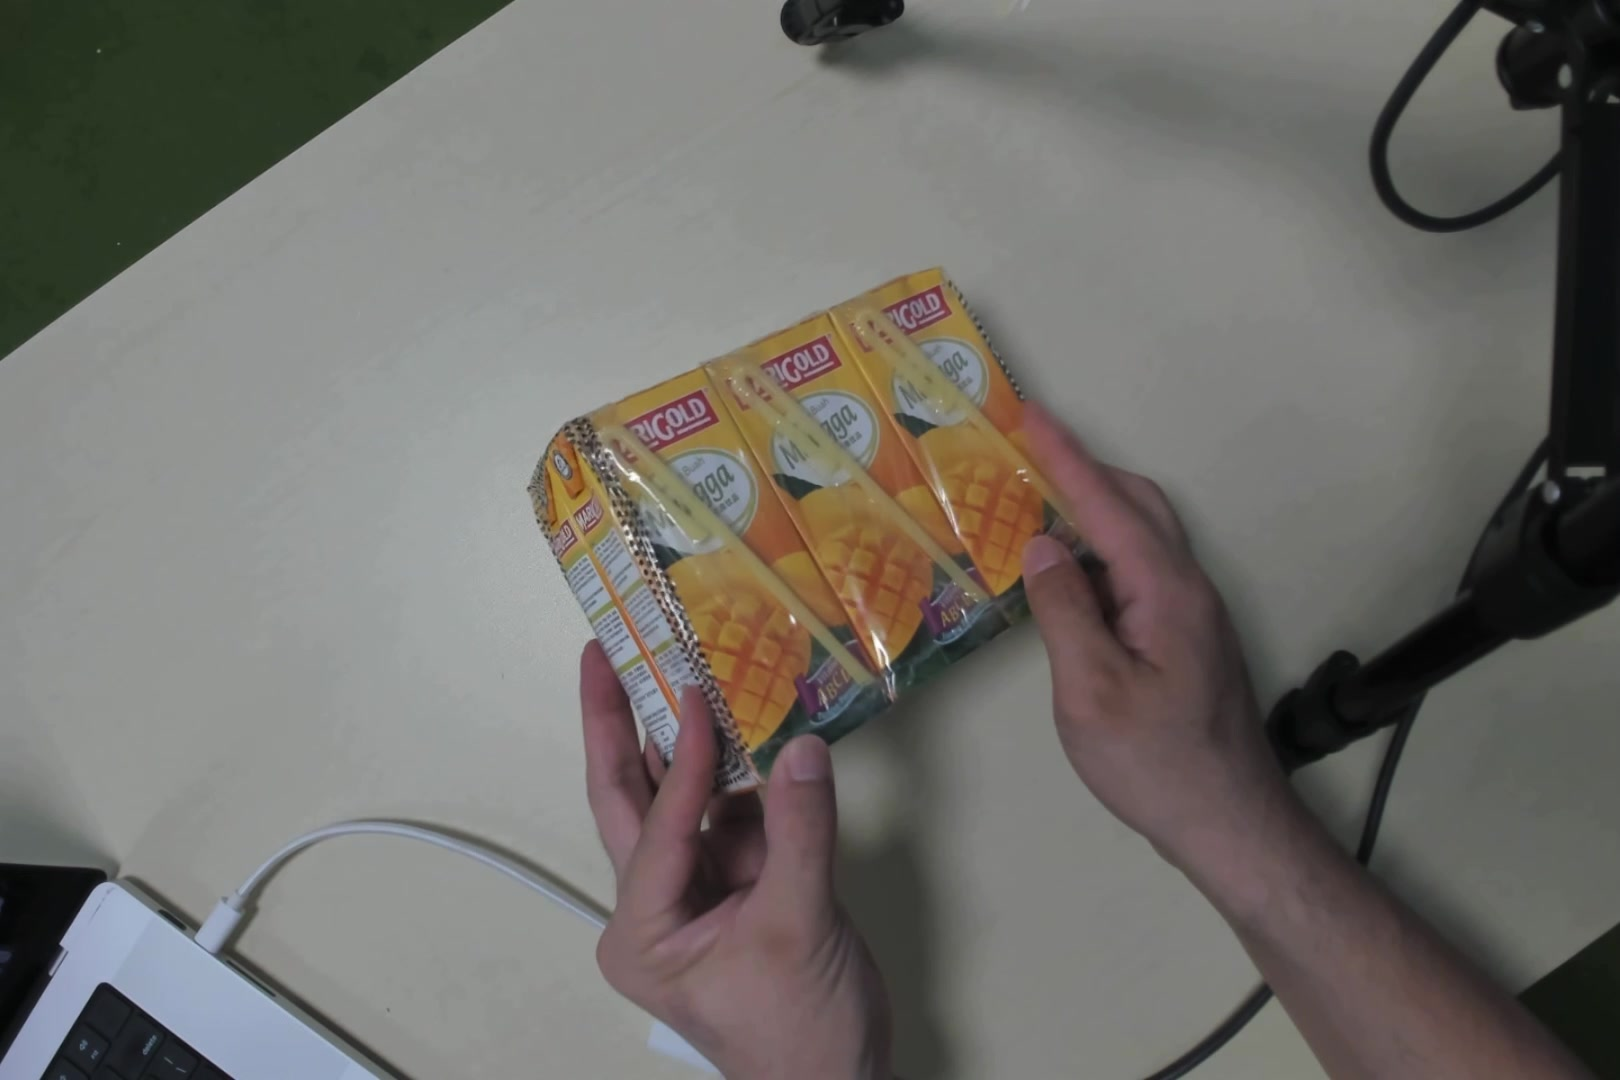FruitJuice_700-799g_Halal_NonHealthy: (563, 278, 1045, 762)
